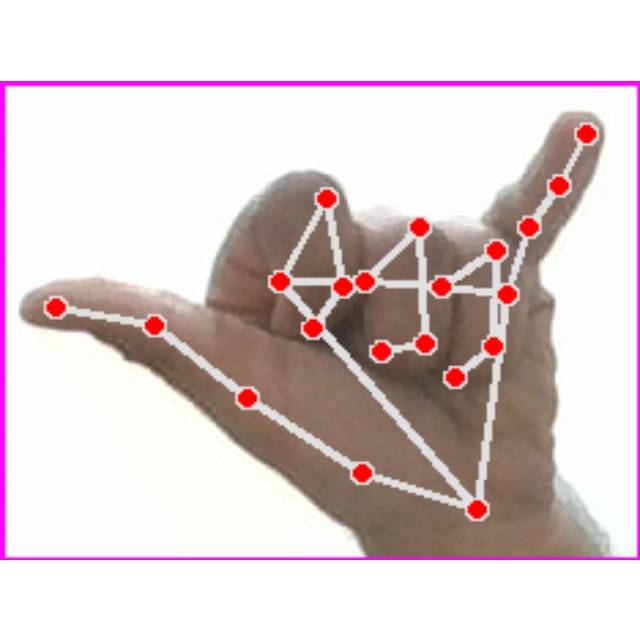Y: (0, 81, 640, 560)
